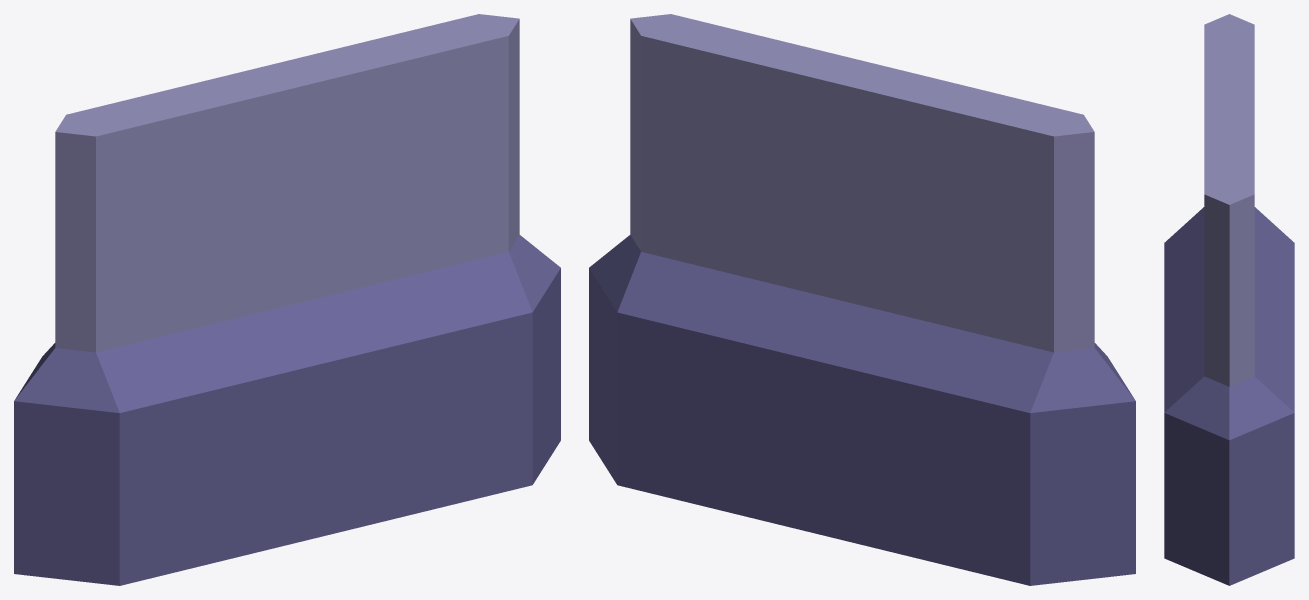
Rendered from Wall_Trim.fbx.
The picture shows the model from 3 angles, left to right: view 1: azimuth 30°, elevation 25°; view 2: azimuth 150°, elevation 25°; view 3: azimuth 270°, elevation 25°; orthographic projection. The views are drawn at different scales.
Parts seen in each view (by area): view 1: wall_baseWideHigh; view 2: wall_baseWideHigh; view 3: wall_baseWideHigh.
Boxes of the visible parts, left/top/right/bottom form: wall_baseWideHigh: left=14, top=14, right=560, bottom=585; wall_baseWideHigh: left=589, top=14, right=1135, bottom=585; wall_baseWideHigh: left=1164, top=14, right=1294, bottom=585.
Bounding box in the file's own units: 13.25 × 10 × 3.25.
